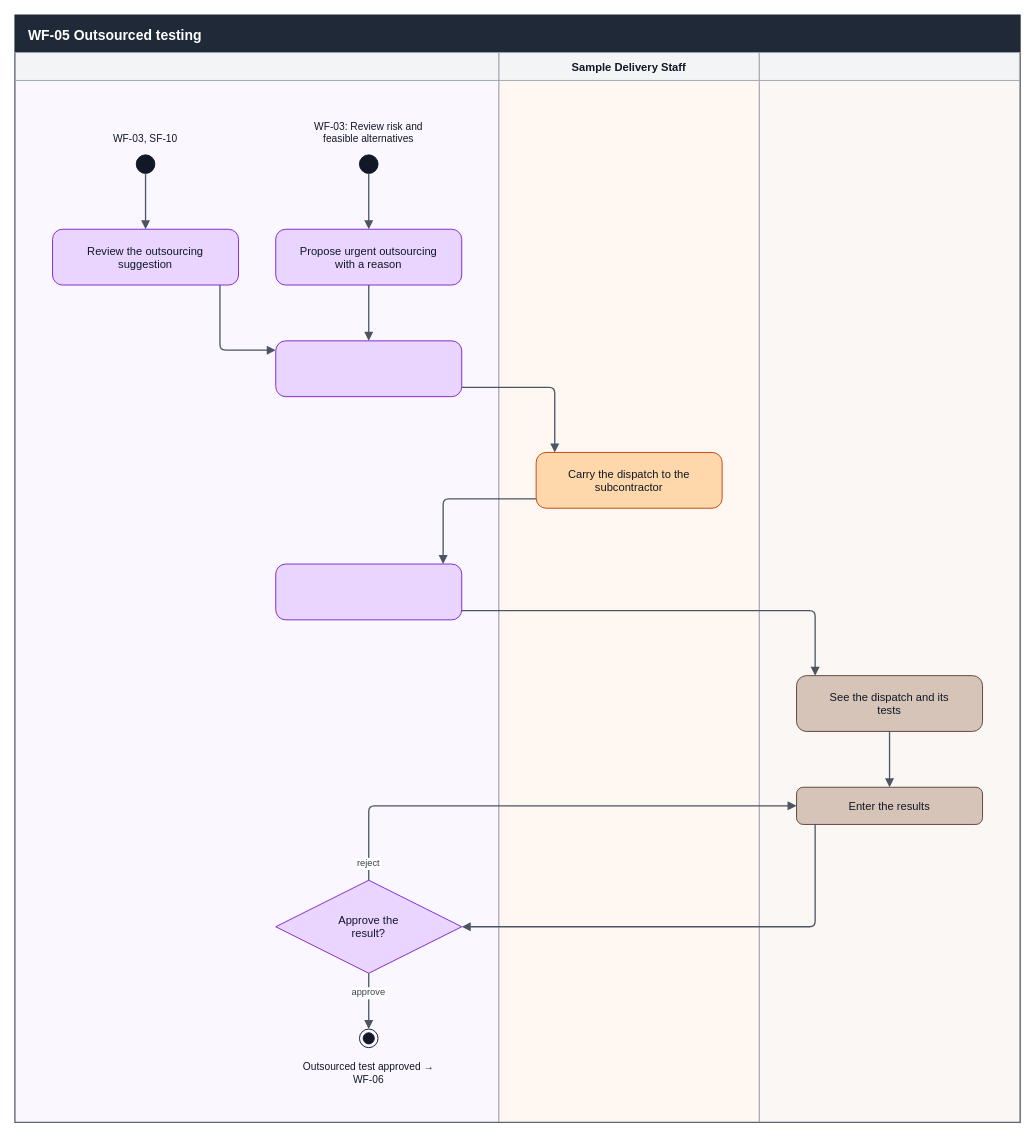
Image size: 1035x1137. Some labels were removed from this diagram. Each missing label, with the box of its shape:
Head of Department: (14, 52, 499, 1122)
Put the sample tests in a dispatch: (275, 340, 462, 397)
Record when it is sent and the expected date: (275, 563, 462, 620)
Subcontractor: (758, 52, 1020, 1122)
